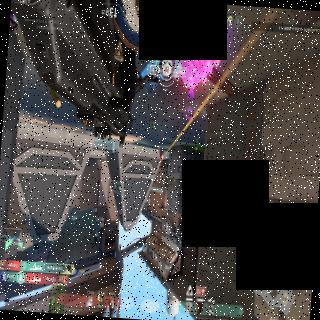ENEMY-BODY: (158, 146, 164, 162)
ENEMY-HEAD: (159, 159, 161, 162)
